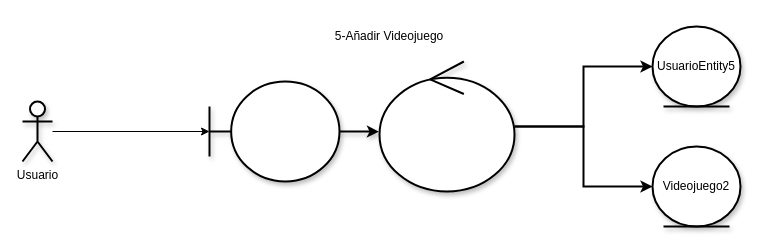
This 765x251 diagram has some shape labels left out. The shapes that lost their labels are listed below. From the top down, each one's centre as x and y in pixels, then its label:
At (275,132): "AñadirVideojuegoUi".
At (447,127): "AñadirVideojuegoAction".
